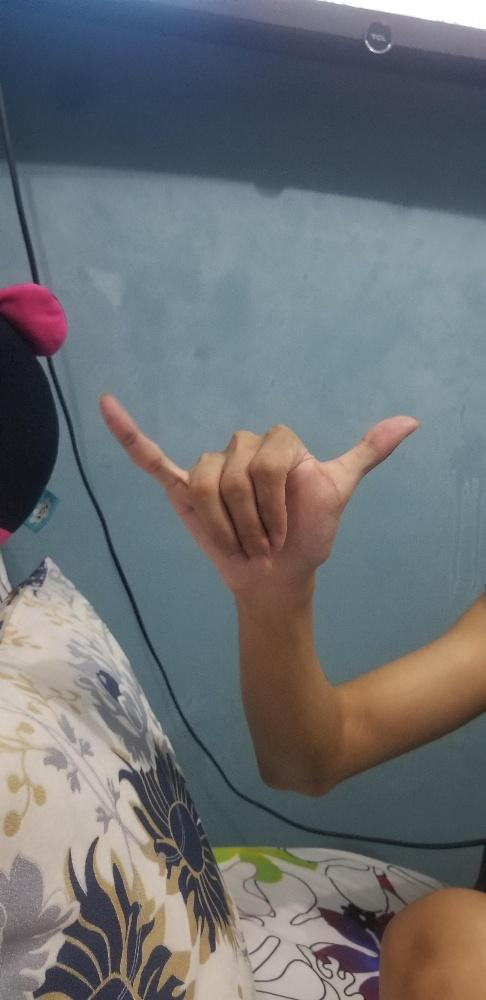y: (96, 390, 420, 590)
